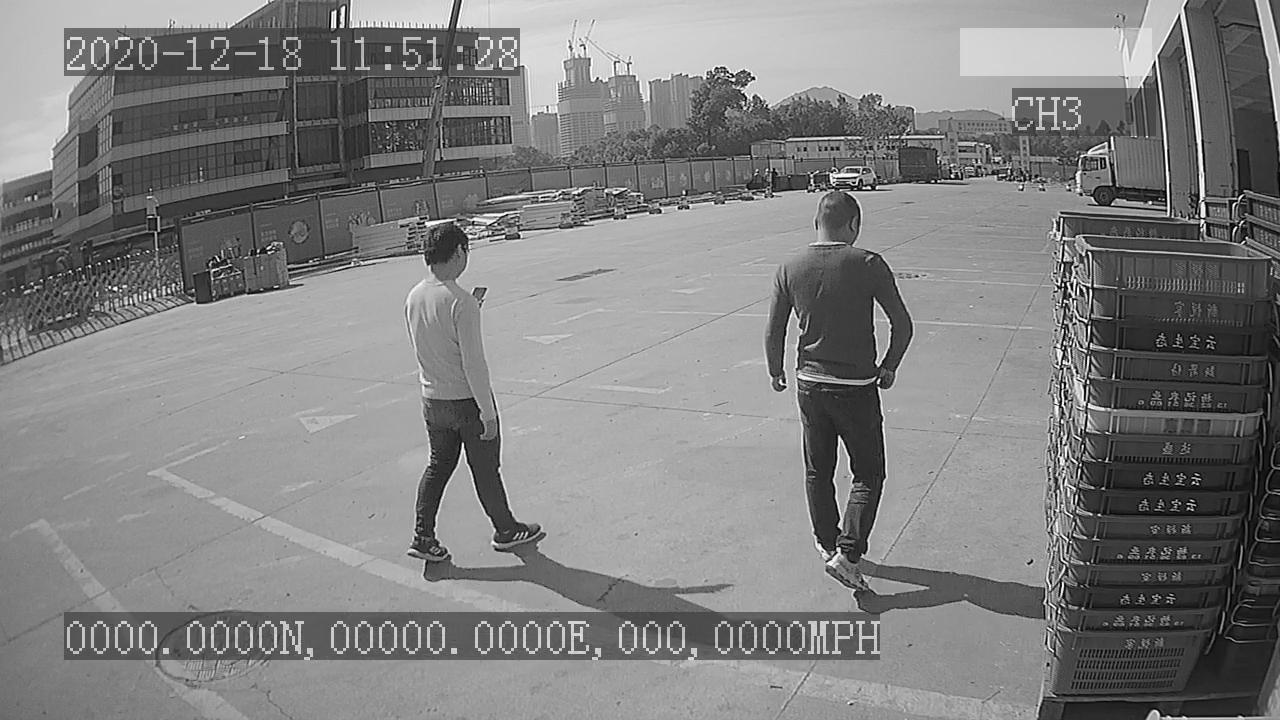person: (756, 179, 920, 602), (404, 217, 547, 570)
